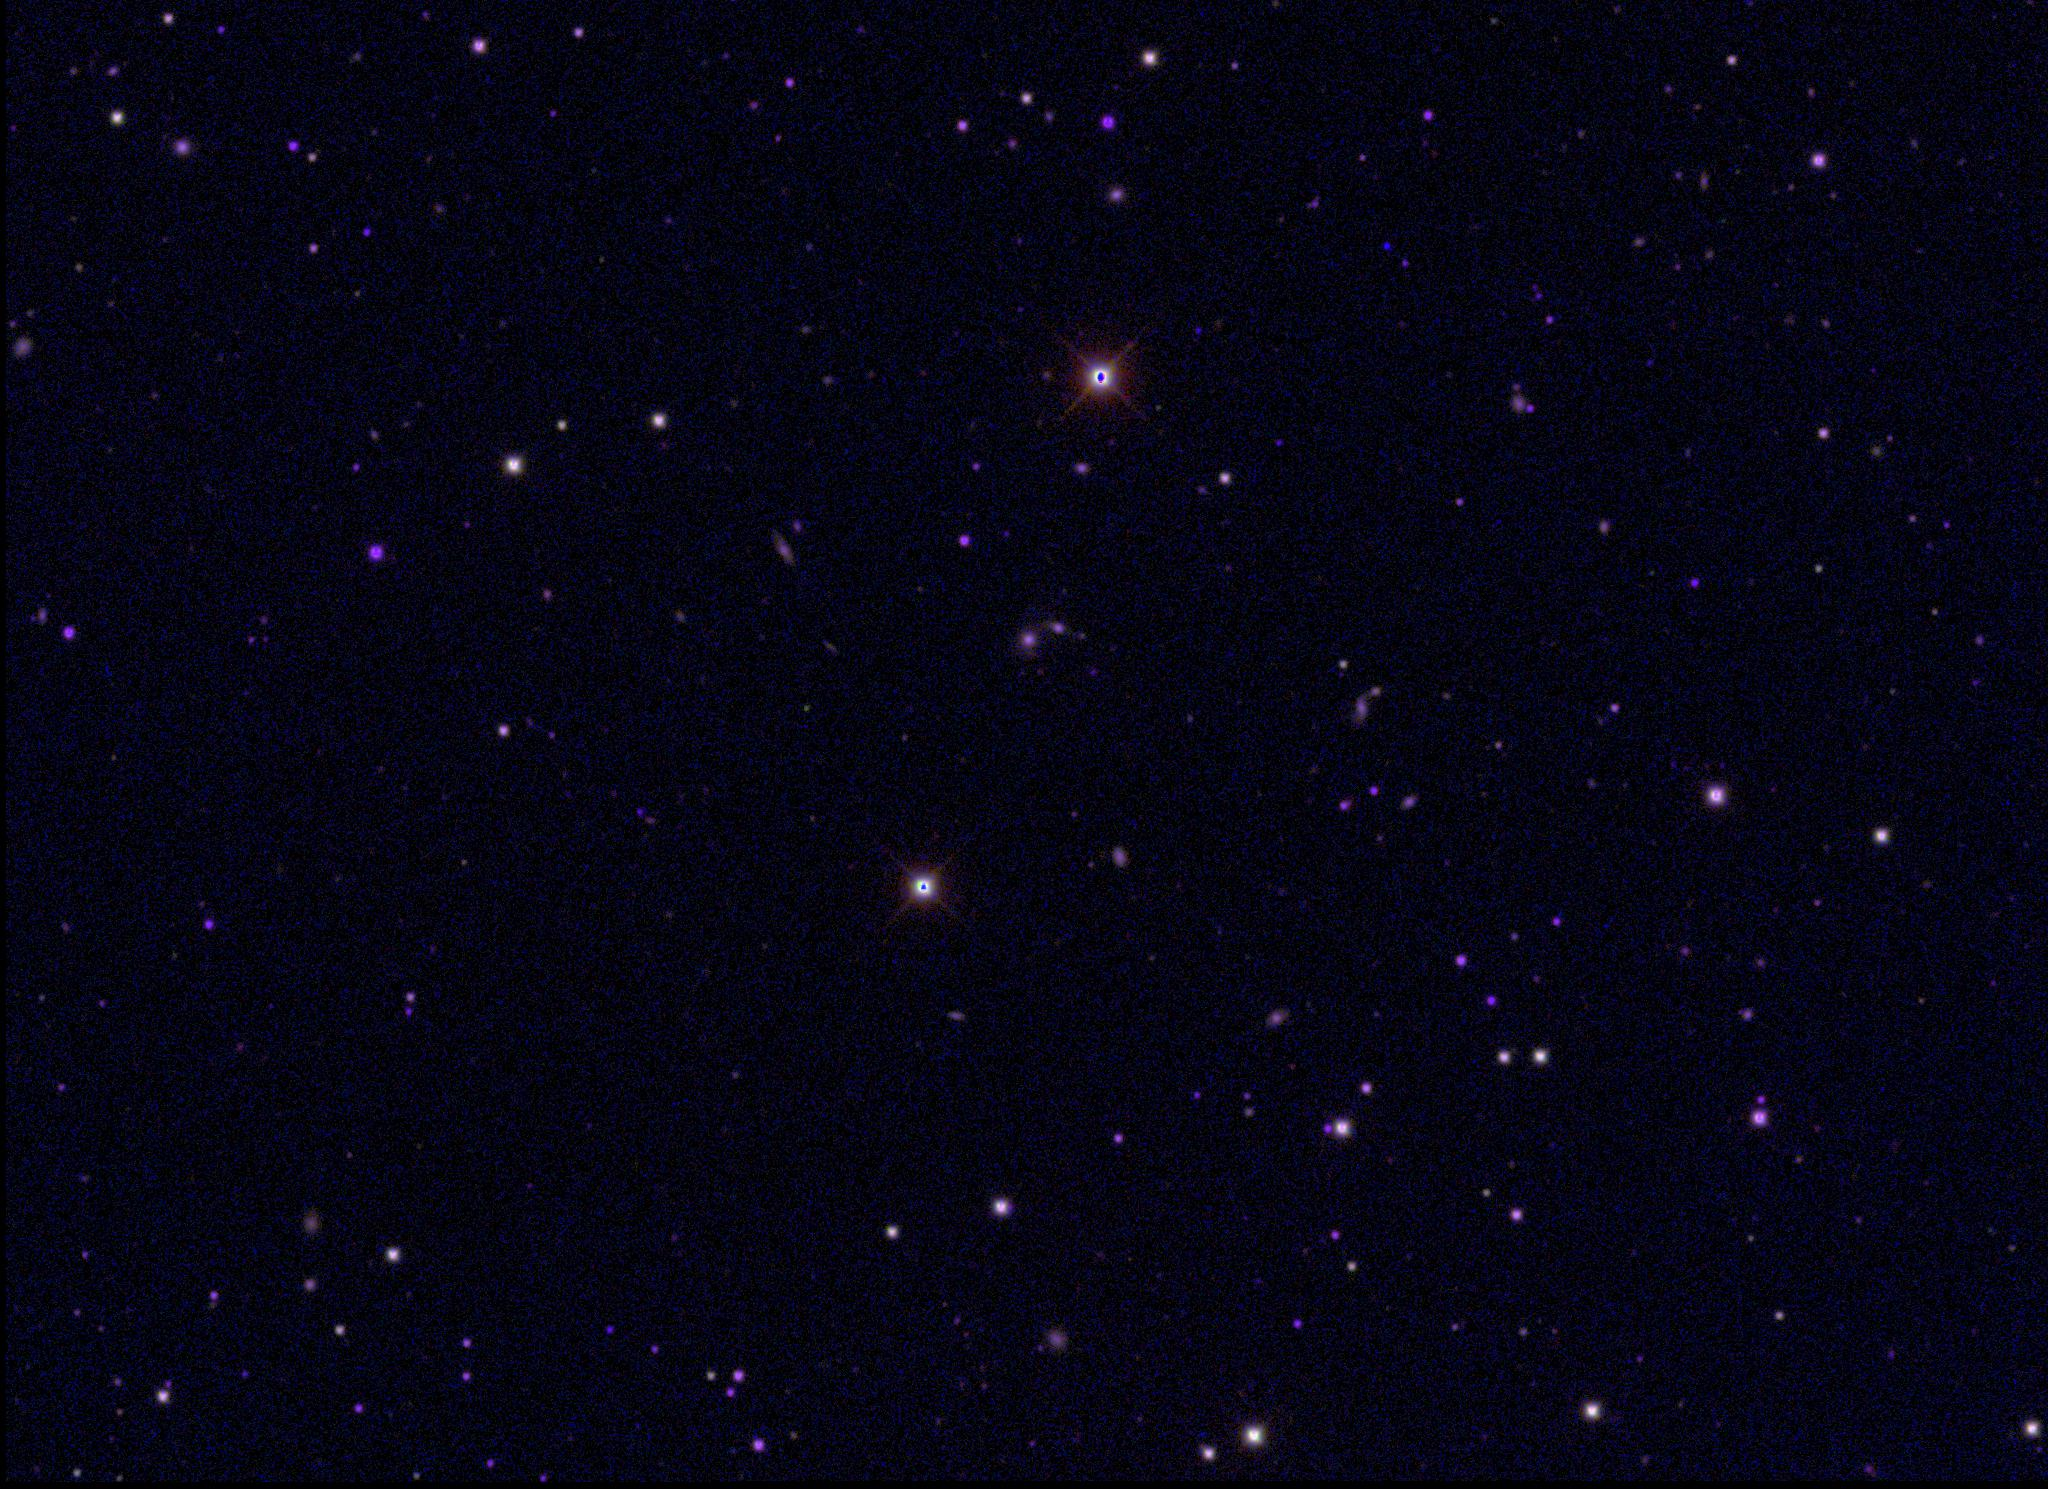L: (1380, 239, 1394, 253)
